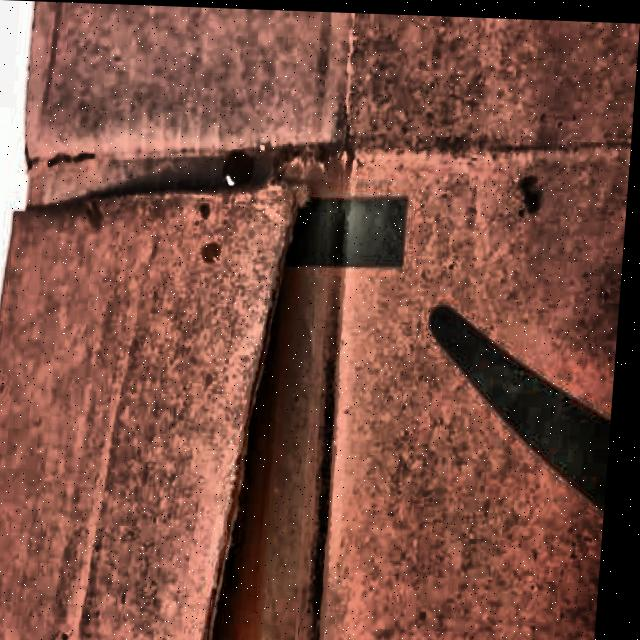cardboard: (0, 0, 640, 640), (0, 170, 305, 640)
